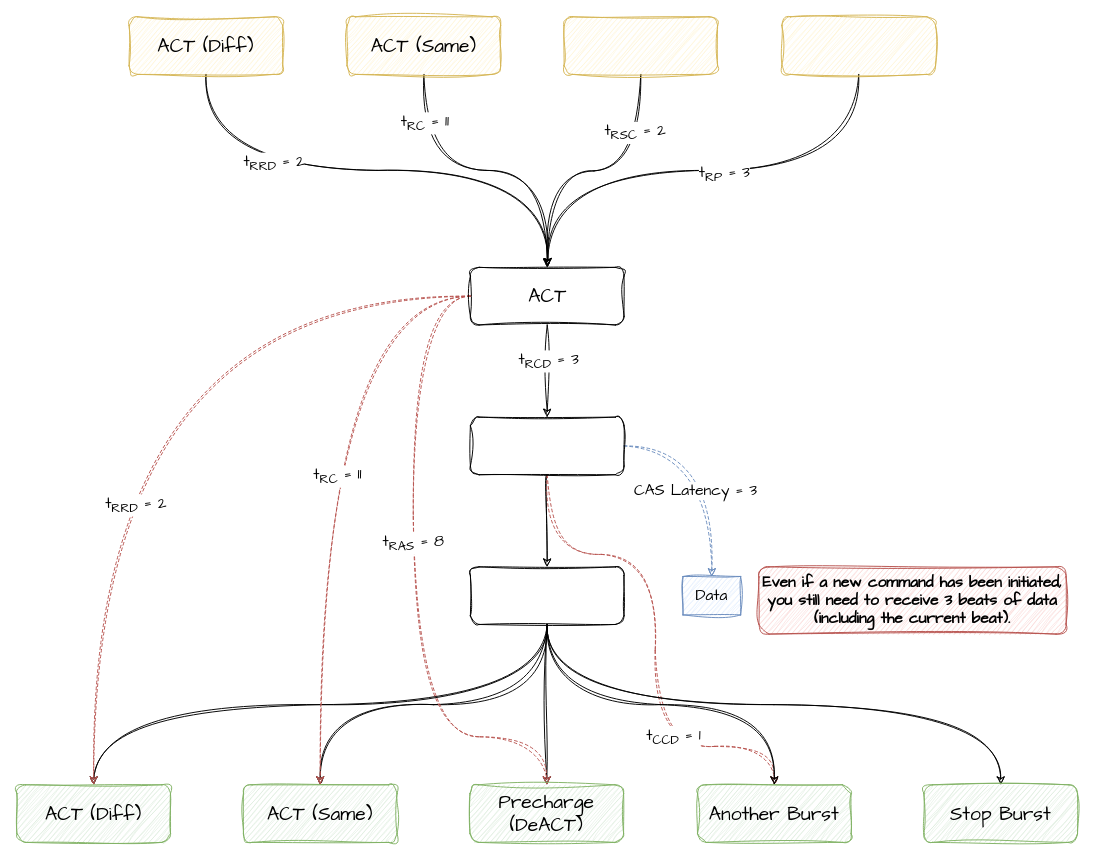
The diagram is 1094 pixels wide and 859 high, and some of its shapes have lost their labels. The centre of each missing label's shape, as x and y in pixels:
Burst Read: the point at 546,445
Mode Set: the point at 640,45
NOP: the point at 546,595
Precharge: the point at 858,45
